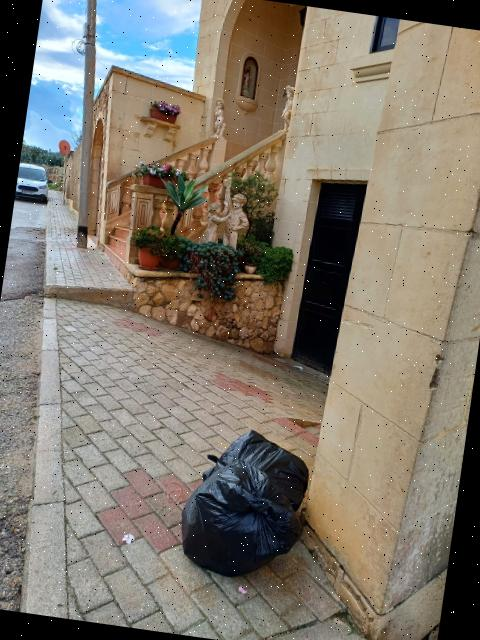Mixed -Black-: (181, 462, 300, 576), (203, 430, 309, 511)
